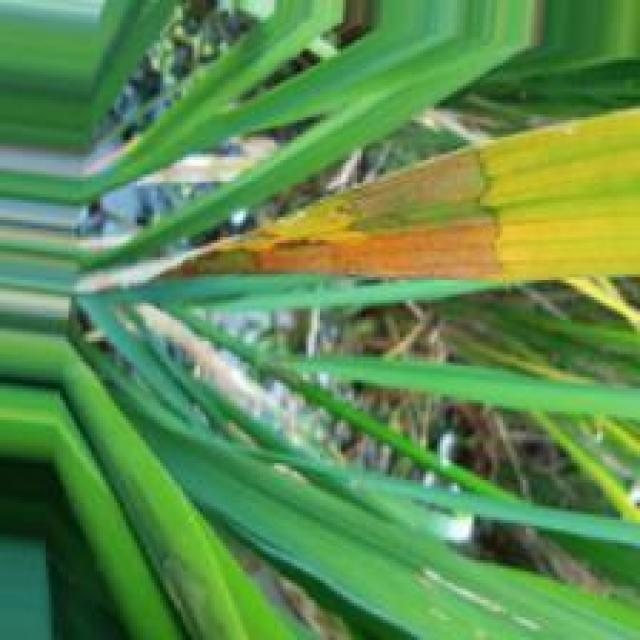Leaf_Scald: (107, 150, 508, 295)
